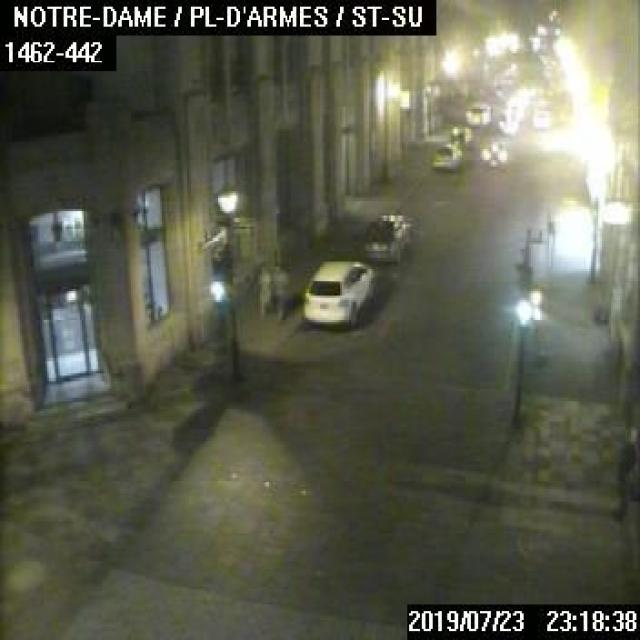pedestrian: (254, 260, 270, 320), (272, 259, 287, 319)
vehicle: (300, 258, 375, 326), (362, 210, 414, 262), (429, 142, 462, 169), (478, 140, 506, 167), (448, 120, 474, 147), (464, 102, 489, 125), (496, 108, 516, 135), (532, 109, 554, 128)
